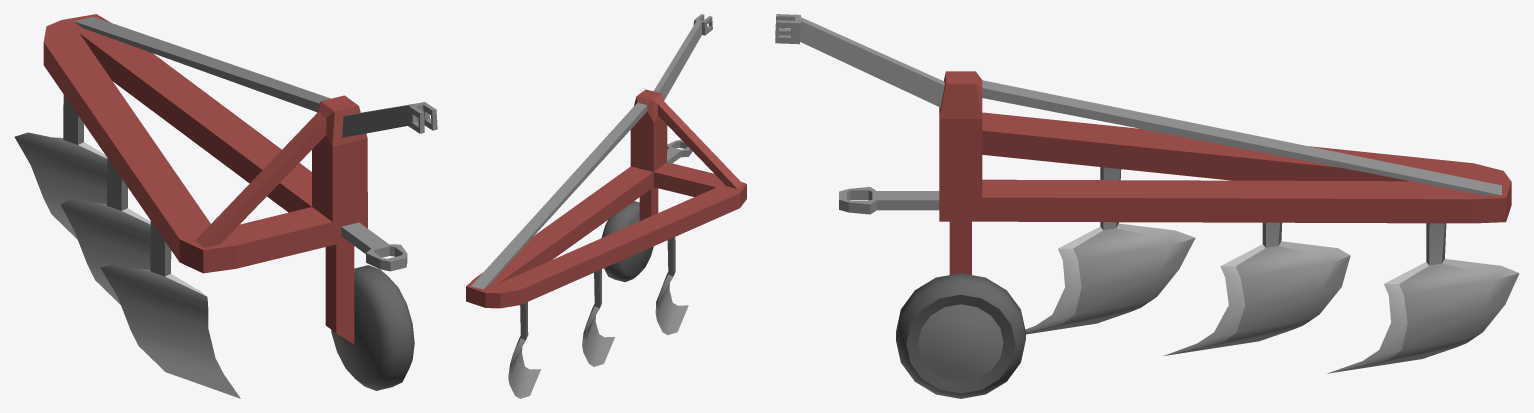
Rendered from Plowshare.gltf.
3 renders of one model, left to right at view 1: azimuth 30°, elevation 25°; view 2: azimuth 150°, elevation 25°; view 3: azimuth 270°, elevation 25°, orthographic. The views are drawn at different scales.
Parts seen in each view (by area): view 1: body, wheel_5, wheel_4; view 2: body, wheel_5, wheel_4; view 3: body, wheel_3, wheel_5, wheel_1, wheel_2, wheel_0.
Part boxes in pixels (<box>): body: <box>14,14,437,398</box>; wheel_5: <box>354,265,414,390</box>; wheel_4: <box>331,285,380,382</box>; body: <box>466,14,746,398</box>; wheel_5: <box>601,201,639,281</box>; wheel_4: <box>622,213,653,276</box>; body: <box>775,14,1519,393</box>; wheel_3: <box>918,304,1003,381</box>; wheel_5: <box>896,273,1025,398</box>; wheel_1: <box>1164,266,1245,355</box>; wheel_2: <box>1327,284,1407,373</box>; wheel_0: <box>1025,248,1081,332</box>.
Bounding box in the file's own units: 1.25 × 2.07 × 3.87.
Materials: 1 (1 with a texture image).
